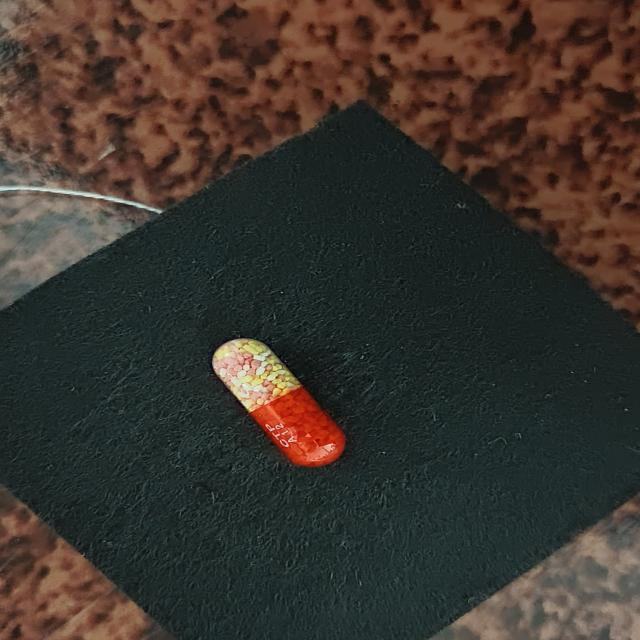Intact Capsule: (212, 338, 346, 467)
